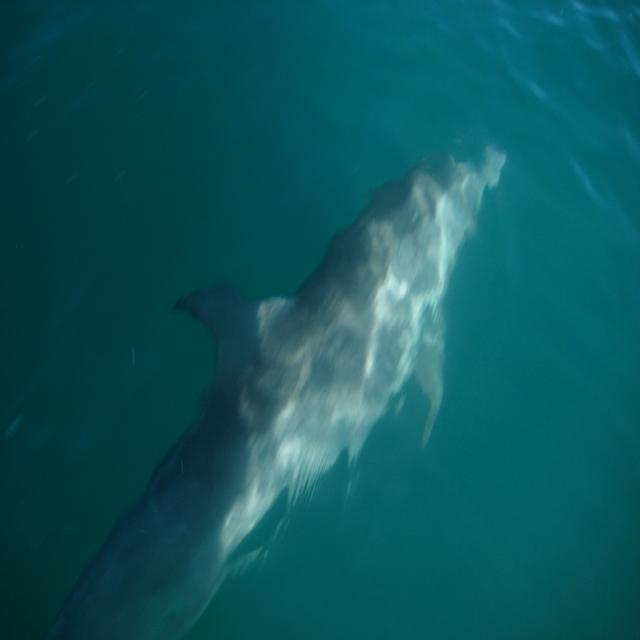Shark: (64, 143, 524, 635)
